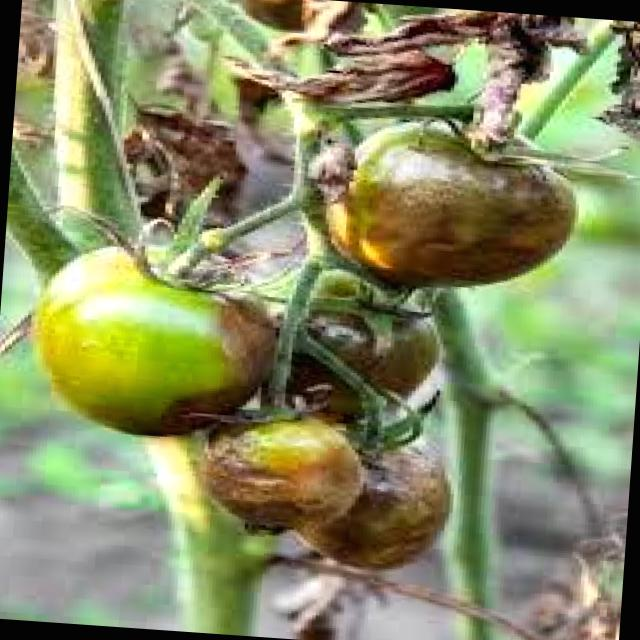Rotten_Tomato: (27, 229, 285, 442), (310, 110, 591, 304), (185, 398, 472, 580), (262, 269, 461, 428)
